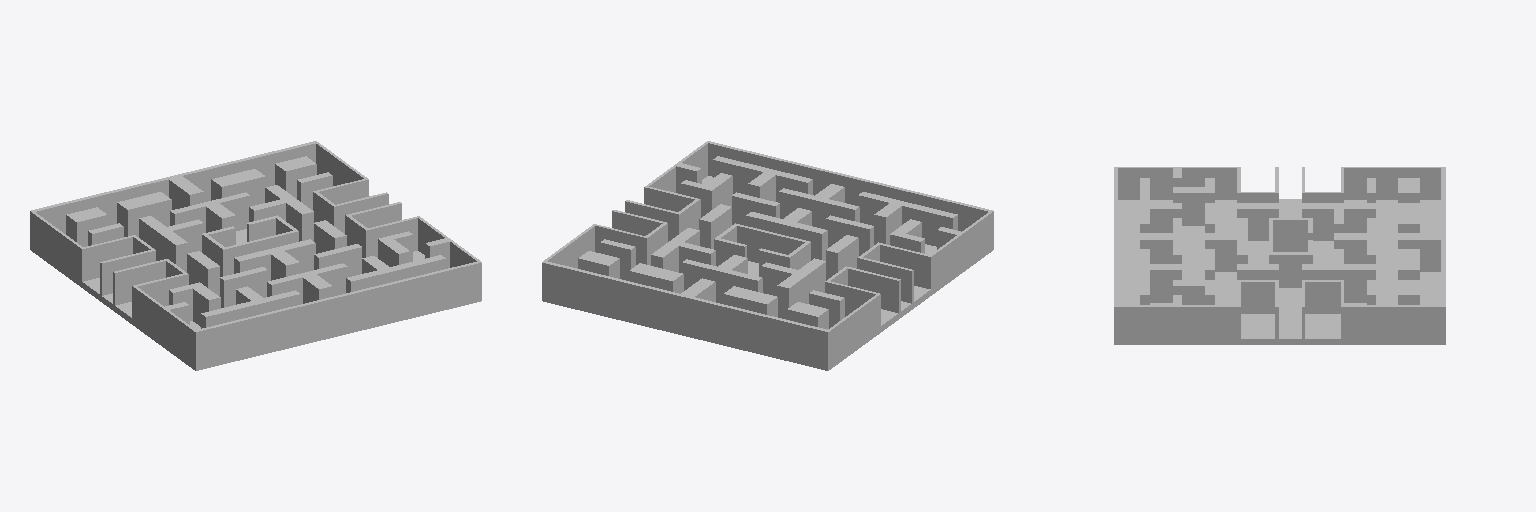
Rendered from NivelPacman.obj.
The picture shows the model from 3 angles: view 1: azimuth 30°, elevation 25°; view 2: azimuth 150°, elevation 25°; view 3: azimuth 270°, elevation 25°; orthographic projection.
Parts seen in each view (by area): view 1: pCube2; view 2: pCube2; view 3: pCube2.
Part boxes in pixels (x1,y1,x2,y2): pCube2: (30,141,481,370); pCube2: (542,141,993,370); pCube2: (1114,167,1445,344).
Size of the model in its own units: 46.64 by 6.04 by 46.78.